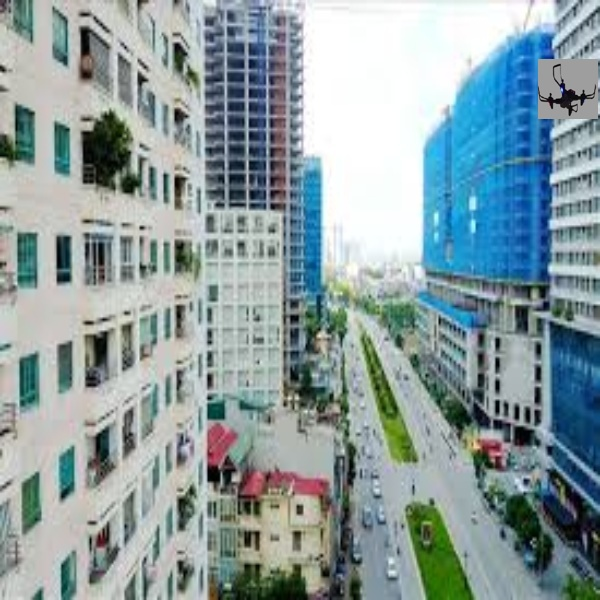drone: (538, 55, 596, 119)
